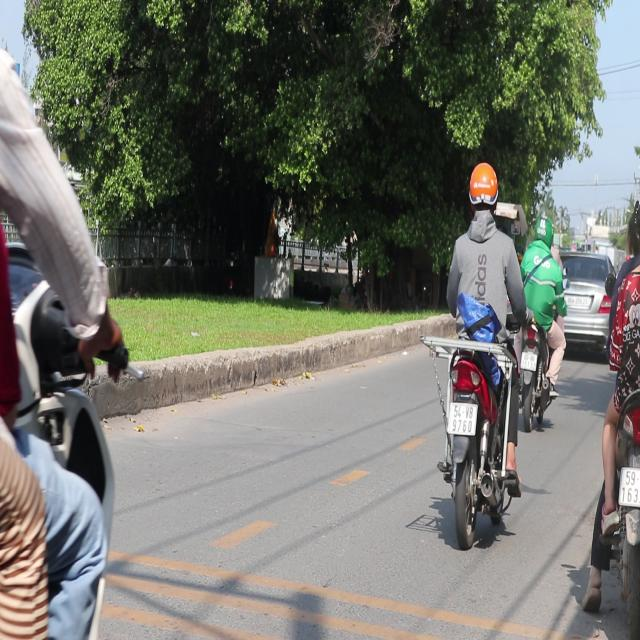helmet: (466, 161, 499, 222), (533, 217, 552, 246)
licenseplate: (418, 159, 527, 546), (582, 193, 640, 630), (517, 215, 566, 428)
nohelmet: (448, 402, 477, 436), (619, 465, 640, 506), (521, 351, 537, 371)
